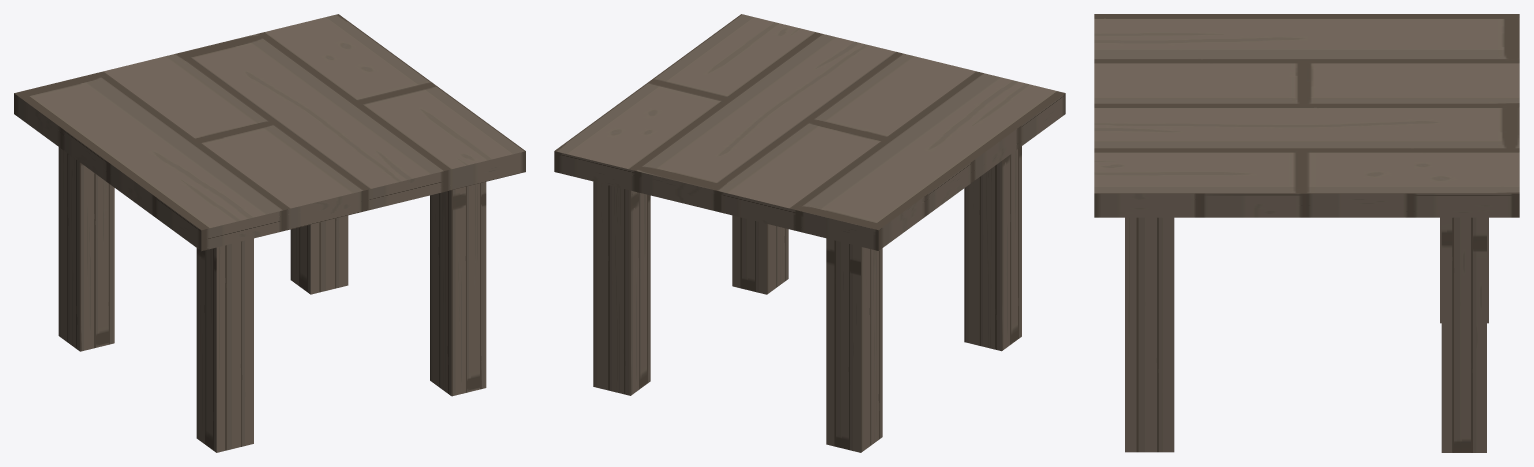
Rendered from table.fbx.
The picture shows the model from 3 angles, left to right: view 1: azimuth 30°, elevation 25°; view 2: azimuth 150°, elevation 25°; view 3: azimuth 270°, elevation 25°; orthographic projection. The views are drawn at different scales.
Parts seen in each view (by area): view 1: Cube, Cube.002, Cube.003, Cube.004, Cube.001; view 2: Cube, Cube.001, Cube.004, Cube.002, Cube.003; view 3: Cube, Cube.003, Cube.001, Cube.004.
Boxes of the visible parts, bbox=[...] form: Cube: bbox=[14, 14, 525, 250]; Cube.002: bbox=[196, 238, 253, 452]; Cube.003: bbox=[430, 182, 486, 396]; Cube.004: bbox=[58, 147, 114, 351]; Cube.001: bbox=[290, 215, 348, 294]; Cube: bbox=[554, 14, 1065, 250]; Cube.001: bbox=[593, 181, 650, 395]; Cube.004: bbox=[826, 238, 882, 452]; Cube.002: bbox=[964, 146, 1021, 351]; Cube.003: bbox=[732, 215, 788, 294]; Cube: bbox=[1094, 14, 1519, 217]; Cube.003: bbox=[1125, 217, 1174, 452]; Cube.001: bbox=[1441, 217, 1486, 452]; Cube.004: bbox=[1440, 217, 1488, 323].
Bounding box in the file's own units: 200 × 142 × 200.
